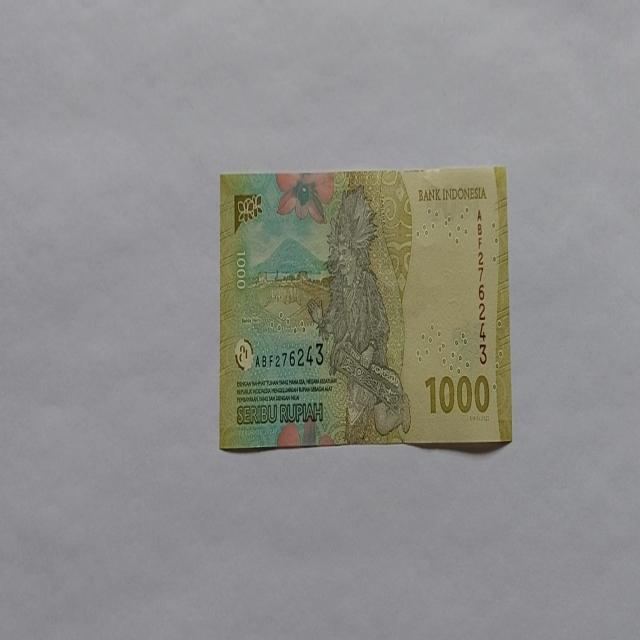seribu rupiah kertas: (218, 166, 512, 452)
